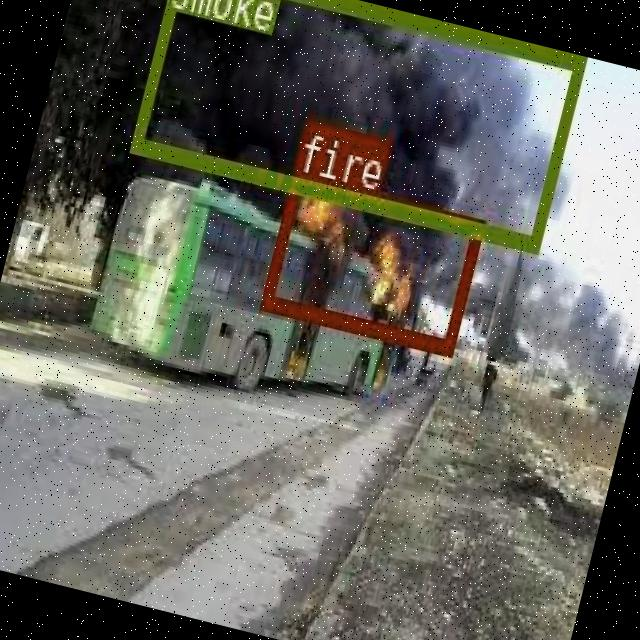fire: (259, 170, 484, 352)
smoke: (129, 0, 584, 247)
